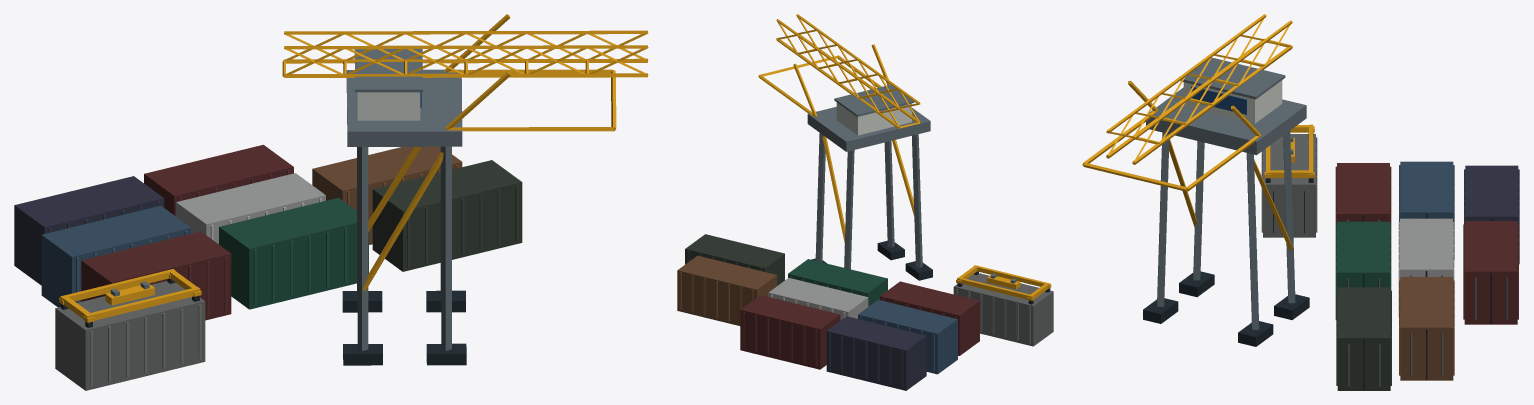
Rendered from gantry-crane-e-w-04.glb.
The picture shows the model from 3 angles, left to right: view 1: azimuth 30°, elevation 25°; view 2: azimuth 150°, elevation 25°; view 3: azimuth 270°, elevation 25°; orthographic projection. The views are drawn at different scales.
Parts seen in each view (by area): view 1: gantry-crane-e-w-04; view 2: gantry-crane-e-w-04; view 3: gantry-crane-e-w-04.
Part boxes in pixels (left/top/right/bottom): gantry-crane-e-w-04: left=14, top=14, right=648, bottom=390; gantry-crane-e-w-04: left=677, top=14, right=1053, bottom=390; gantry-crane-e-w-04: left=1082, top=14, right=1519, bottom=390.
Size of the model in its own units: 54.02 by 31.18 by 47.91.
